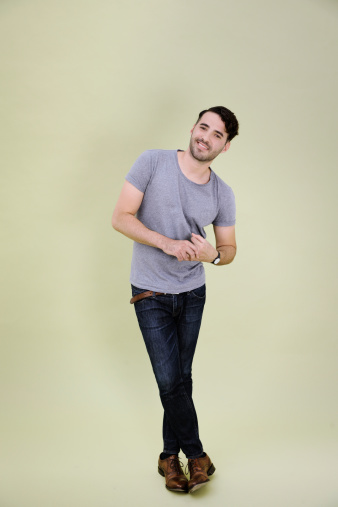em pe: (96, 92, 239, 507)
